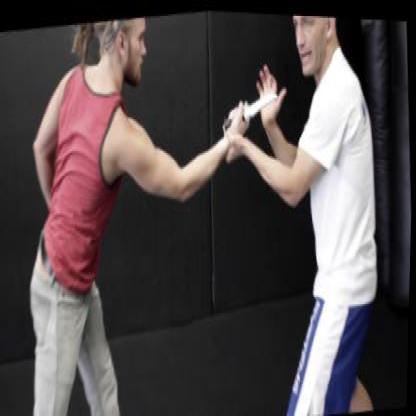knife: (218, 77, 283, 136)
